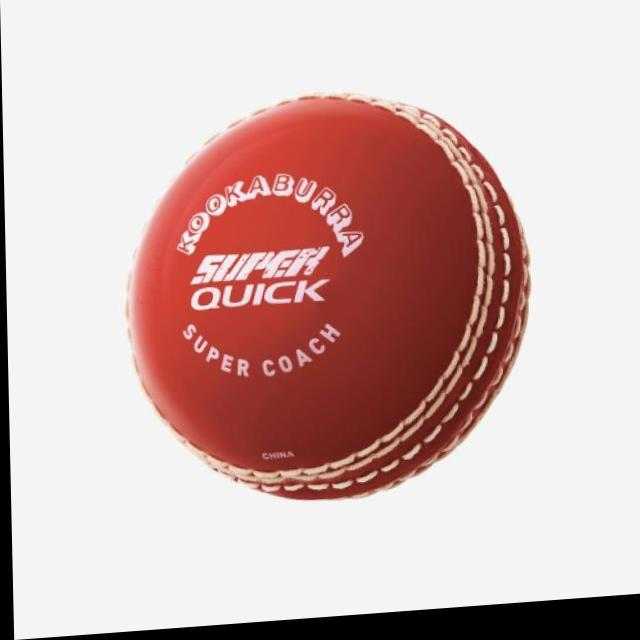cricket ball: (122, 96, 531, 508)
